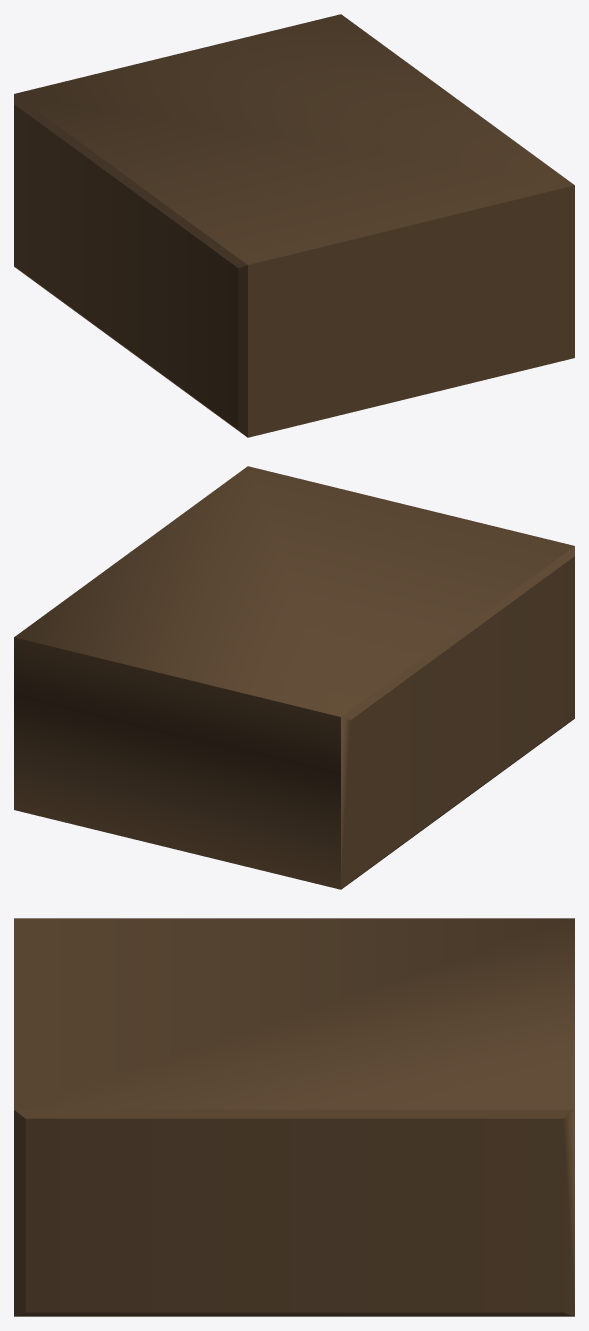
File: Itr_Sofa_Inside_04.FBX
The picture shows the model from 3 angles, top to bottom: view 1: azimuth 30°, elevation 25°; view 2: azimuth 150°, elevation 25°; view 3: azimuth 270°, elevation 25°; orthographic projection. The views are drawn at different scales.
Visible parts, largest first — view 1: Itr_Sofa_Inside_04; view 2: Itr_Sofa_Inside_04; view 3: Itr_Sofa_Inside_04.
Boxes of the visible parts, x1=… form: Itr_Sofa_Inside_04: x1=14, y1=14, x2=574, y2=437; Itr_Sofa_Inside_04: x1=14, y1=466, x2=574, y2=889; Itr_Sofa_Inside_04: x1=14, y1=918, x2=574, y2=1316.
Size of the model in its own units: 25.04 by 12.29 by 30.18.
